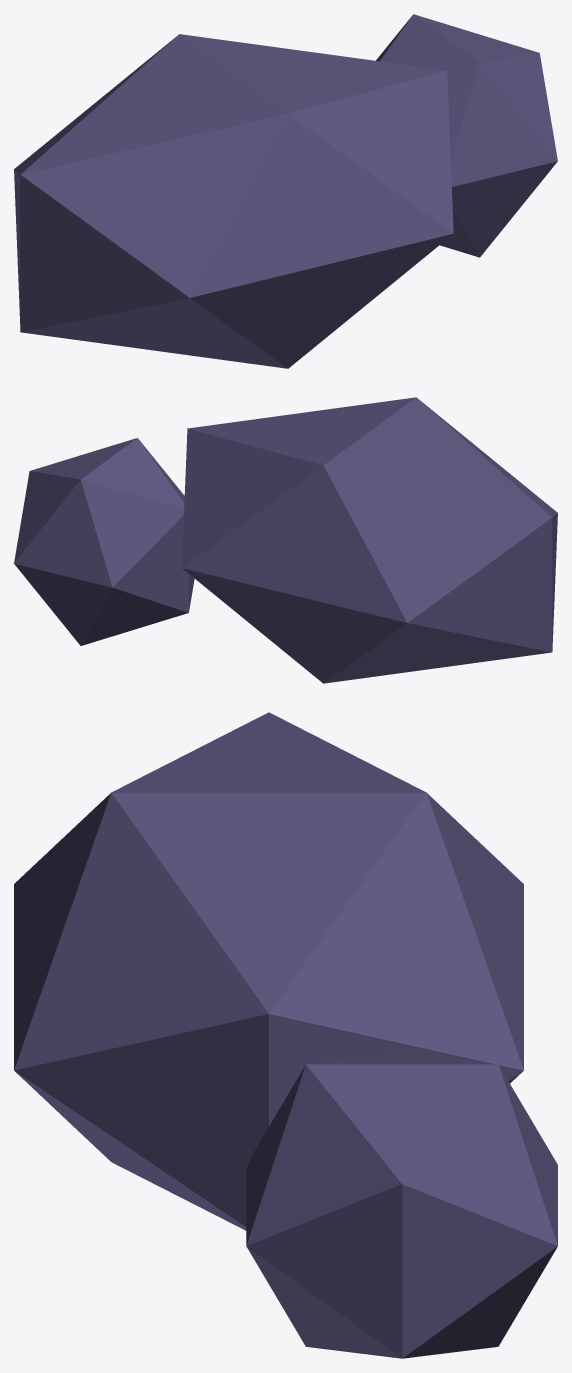
The model's file is rocks.glb.
The picture shows the model from 3 angles, top to bottom: view 1: azimuth 30°, elevation 25°; view 2: azimuth 150°, elevation 25°; view 3: azimuth 270°, elevation 25°; orthographic projection. The views are drawn at different scales.
Visible parts, largest first — view 1: R1, R2; view 2: R1, R2; view 3: R1, R2.
Boxes of the visible parts, x1,y1,x2,y2 form: R1: [14, 34, 453, 368]; R2: [376, 14, 557, 257]; R1: [182, 397, 557, 683]; R2: [14, 438, 194, 645]; R1: [14, 712, 523, 1230]; R2: [246, 1053, 557, 1358].
Bounding box in the file's own units: 2.84 × 1.23 × 1.63.
